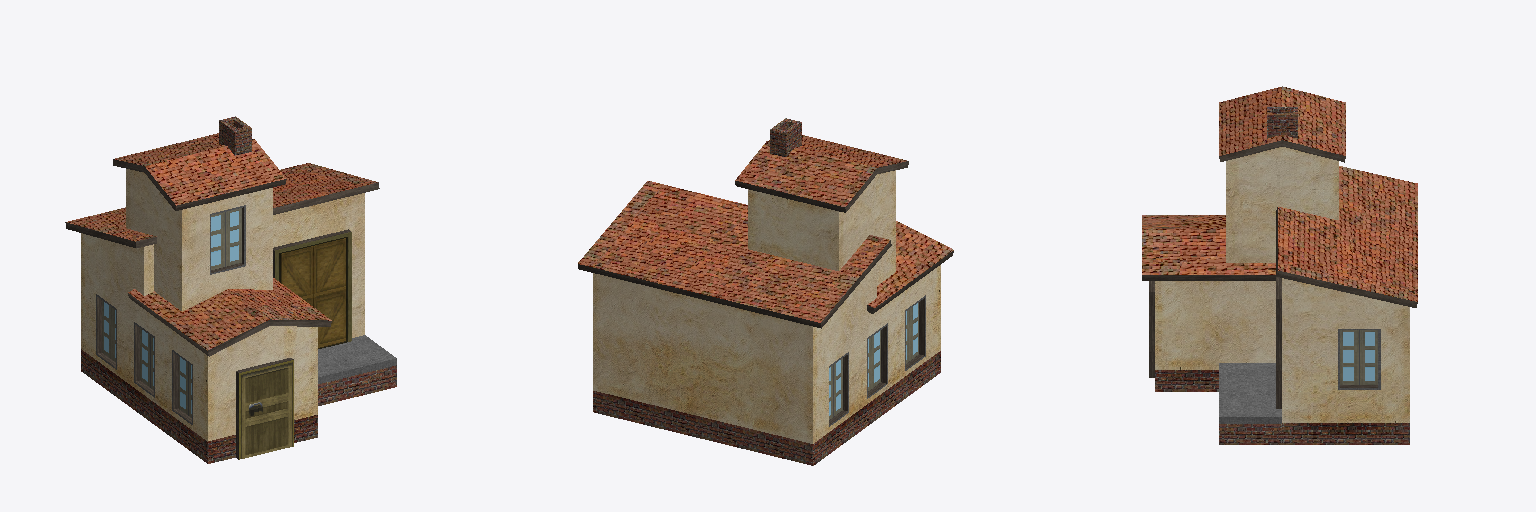
3 renders of one model, left to right at view 1: azimuth 30°, elevation 25°; view 2: azimuth 150°, elevation 25°; view 3: azimuth 270°, elevation 25°, orthographic.
Parts seen in each view (by area): view 1: NoName,1; view 2: NoName,1; view 3: NoName,1.
Part boxes in pixels (x1,y1,x2,y2): NoName,1: (65, 116, 396, 463); NoName,1: (578, 118, 953, 465); NoName,1: (1142, 86, 1417, 444).
Size of the model in its own units: 5.91 by 6.3 by 5.81.
1 materials, 1 textured.